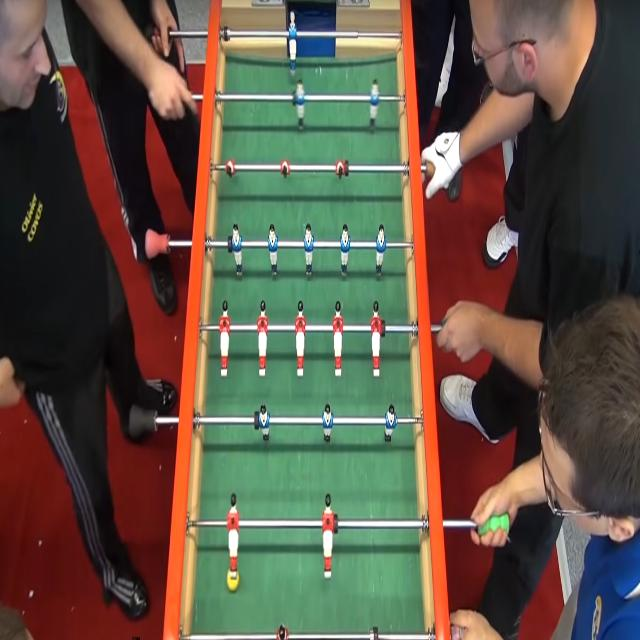ball: (222, 574, 246, 594)
